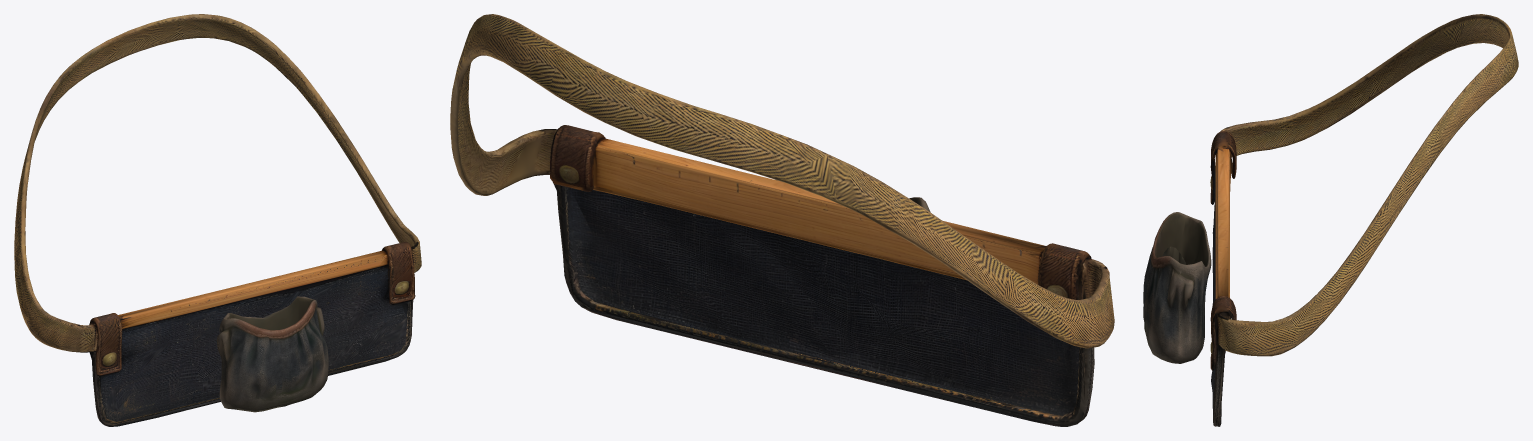
File: assembly-progress-2.glb
3 renders of one model, left to right at view 1: azimuth 30°, elevation 25°; view 2: azimuth 150°, elevation 25°; view 3: azimuth 270°, elevation 25°, orthographic. The views are drawn at different scales.
Visible parts, largest first — view 1: BeltBody, SoftPouch; view 2: BeltBody; view 3: BeltBody, SoftPouch.
Boxes of the visible parts, bbox=[...] form: BeltBody: bbox=[14, 14, 421, 426]; SoftPouch: bbox=[216, 296, 328, 412]; BeltBody: bbox=[450, 14, 1114, 426]; BeltBody: bbox=[1210, 14, 1518, 426]; SoftPouch: bbox=[1143, 212, 1211, 363].
Size of the model in its own units: 0.3501 by 0.2494 by 0.2644.
Materials: 2 (2 with a texture image).
